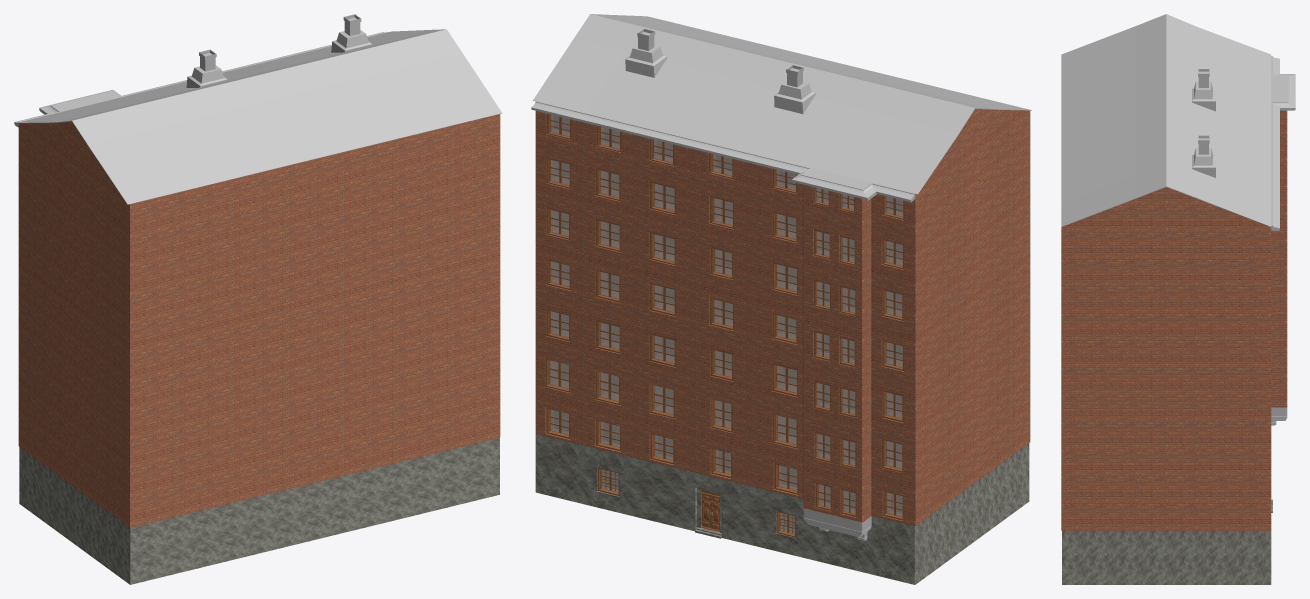
The model's file is Apartment2_Hi.fbx.
3 renders of one model, left to right at view 1: azimuth 30°, elevation 25°; view 2: azimuth 150°, elevation 25°; view 3: azimuth 270°, elevation 25°, orthographic. The views are drawn at different scales.
Visible parts, largest first — view 1: Apartment2, FullHouse.083, Apartment2.001, Apartment2.005, Apartment2.003, Apartment2.002, Apartment2.004, Apartment2.007, Apartment2.006, 5th_R_C.012; view 2: Apartment2, FullHouse.083, Apartment2.001, Apartment2.005, Apartment2.003, Apartment2.007, 5th_R_C.012, Apartment2.004, Apartment2.006, Apartment2.002, Apartment2.008, FullHouse.018 (+28 smaller); view 3: Apartment2, FullHouse.083, Apartment2.007, 5th_R_C.012.
Part boxes in pixels (<box>): Apartment2: <box>18,114,500,527</box>; FullHouse.083: <box>14,29,502,204</box>; Apartment2.001: <box>19,447,172,584</box>; Apartment2.005: <box>346,460,409,532</box>; Apartment2.003: <box>231,488,292,560</box>; Apartment2.002: <box>173,503,230,574</box>; Apartment2.004: <box>293,475,345,544</box>; Apartment2.007: <box>453,437,499,505</box>; Apartment2.006: <box>409,449,452,516</box>; 5th_R_C.012: <box>186,14,372,87</box>; Apartment2: <box>533,100,1030,525</box>; FullHouse.083: <box>531,14,1031,202</box>; Apartment2.001: <box>871,443,1029,584</box>; Apartment2.005: <box>628,456,692,530</box>; Apartment2.003: <box>747,485,811,559</box>; Apartment2.007: <box>535,434,583,504</box>; 5th_R_C.012: <box>625,28,815,113</box>; Apartment2.004: <box>692,472,746,543</box>; Apartment2.006: <box>584,445,628,514</box>; Apartment2.002: <box>812,516,871,574</box>; Apartment2.008: <box>803,508,871,540</box>; FullHouse.018: <box>650,383,675,418</box>; Apartment2: <box>1061,110,1287,530</box>; FullHouse.083: <box>1061,14,1295,230</box>; Apartment2.007: <box>1062,531,1271,584</box>; 5th_R_C.012: <box>1192,68,1215,177</box>.
Bounding box in the file's own units: 27.26 × 30.56 × 15.69.
